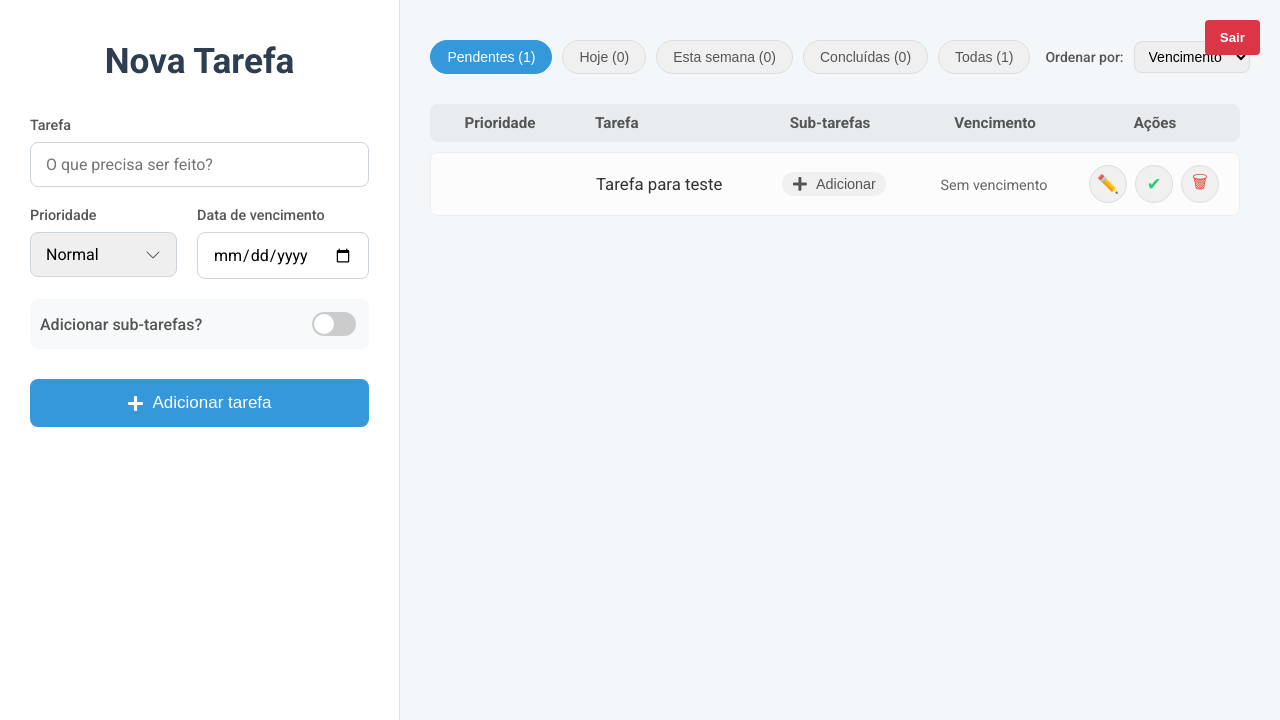
Test case: exclui uma tarefa de teste
Expected: the text "Tarefa para teste" is shown, [596,174,722,194]
What coordinates should you click on to do the following:
click the button with class "delete-task-btn"
I would click on:
 (1200, 184)
Its box is [1181,165,1219,203].
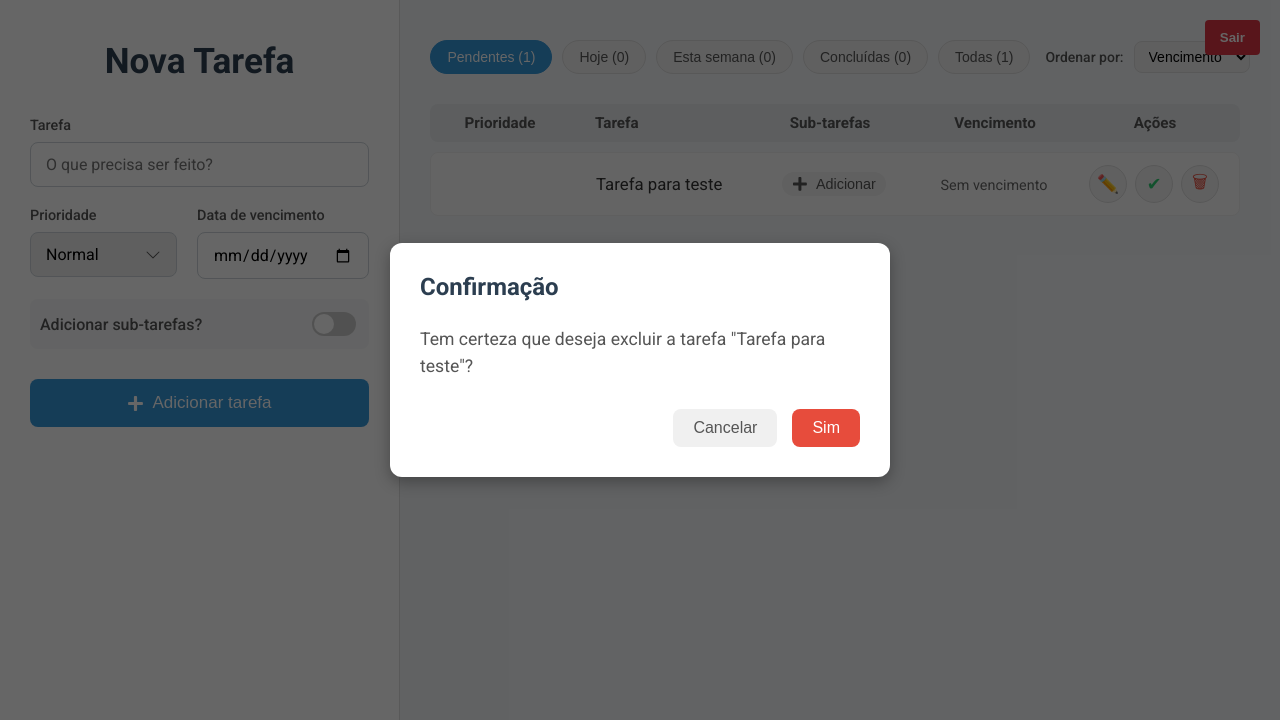
What coordinates should you click on to do the following:
click the button "Sim"
I would click on:
 (826, 428)
Its box is [792,409,860,447].
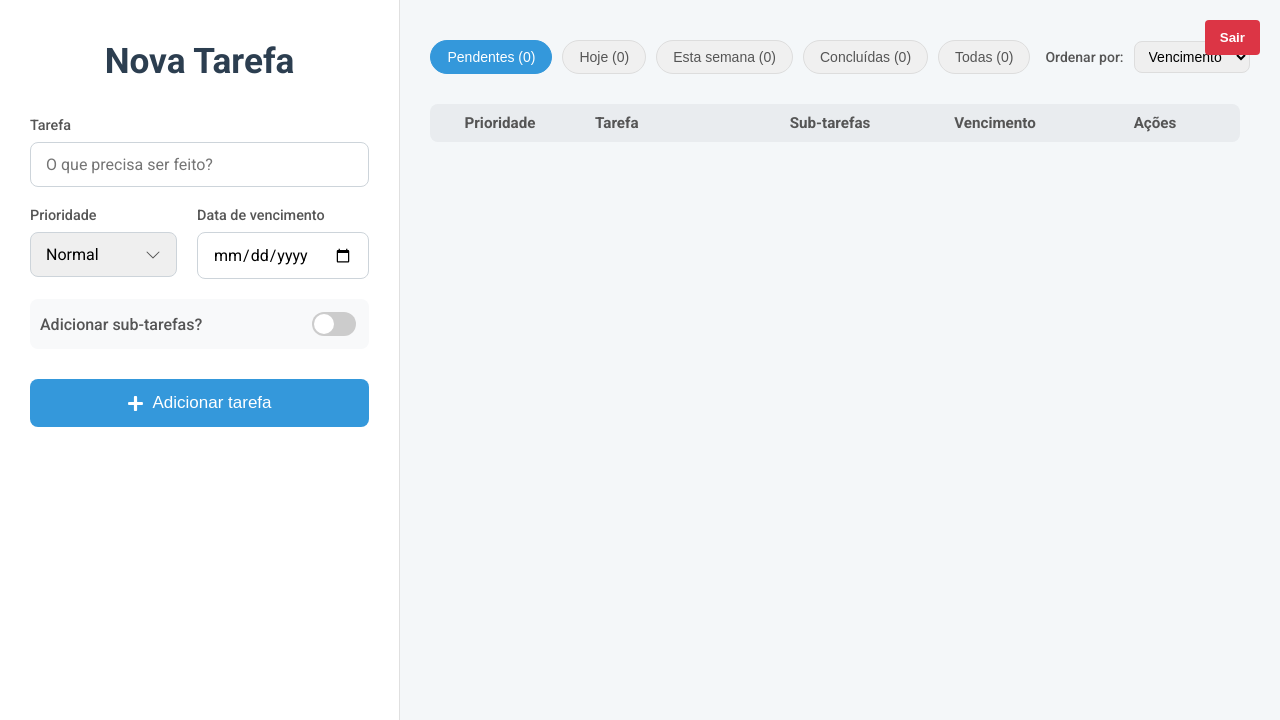
Expected: the text "Tarefa para teste" is gone
